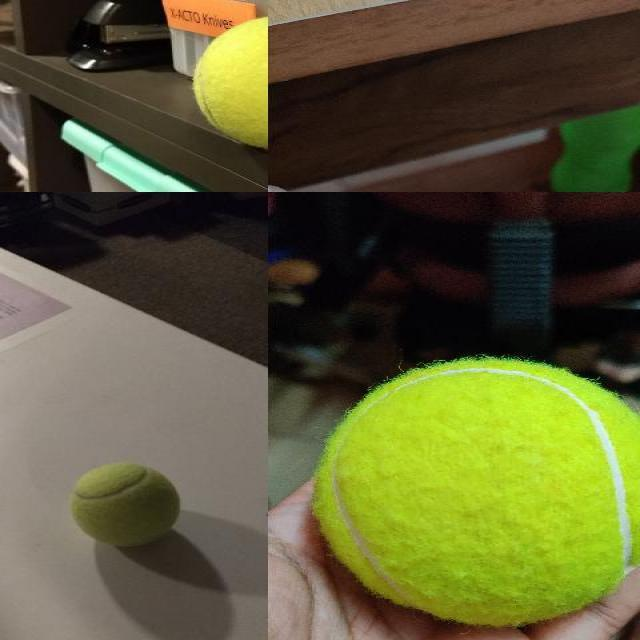tennis-ball: (313, 358, 639, 626), (189, 12, 267, 158), (67, 462, 181, 548)
